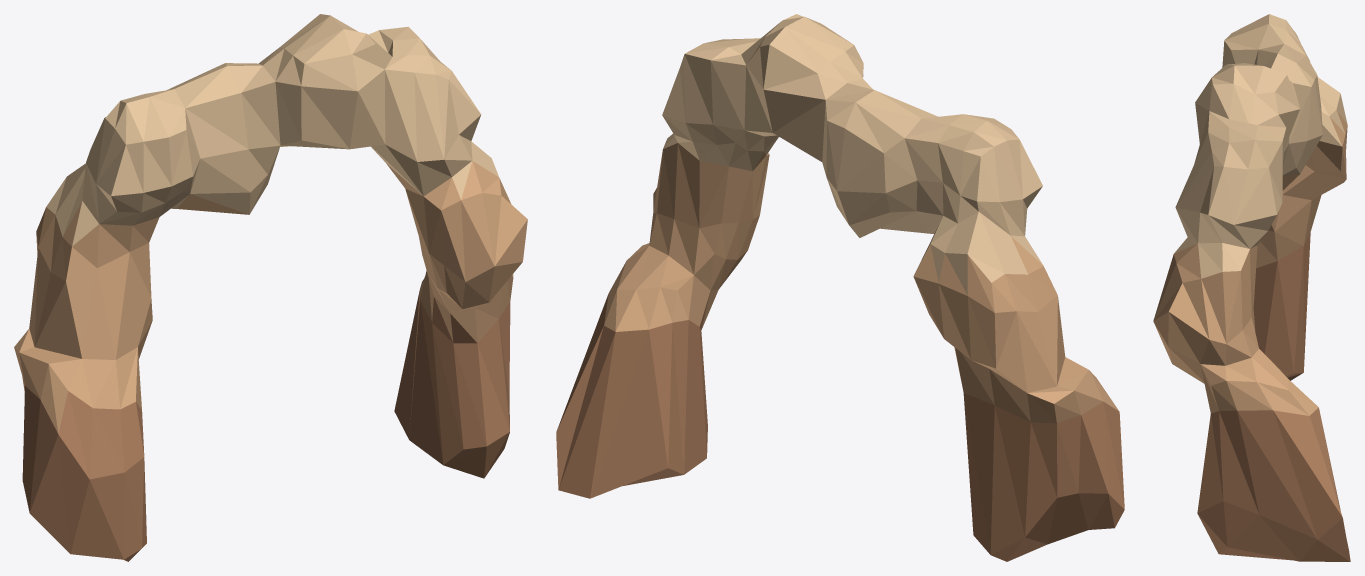
The model's file is canyon-4-5.glb.
3 renders of one model, left to right at view 1: azimuth 30°, elevation 25°; view 2: azimuth 150°, elevation 25°; view 3: azimuth 270°, elevation 25°, orthographic. The views are drawn at different scales.
Visible parts, largest first — view 1: canyon-4-5; view 2: canyon-4-5; view 3: canyon-4-5.
Part boxes in pixels (x1,y1,x2,y2): canyon-4-5: (14,14,527,561); canyon-4-5: (556,14,1124,561); canyon-4-5: (1153,14,1350,561).
Bounding box in the file's own units: 32.85 × 30 × 12.44.
